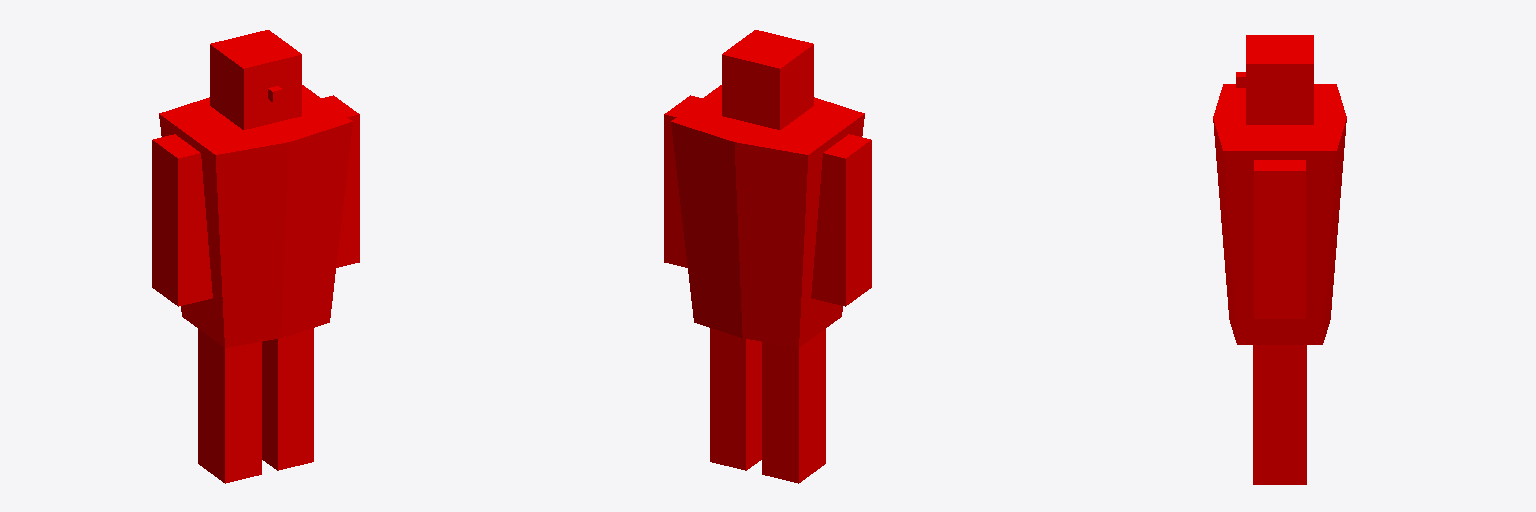
Rendered from rioterMan.obj.
3 renders of one model, left to right at view 1: azimuth 30°, elevation 25°; view 2: azimuth 150°, elevation 25°; view 3: azimuth 270°, elevation 25°, orthographic.
Parts seen in each view (by area): view 1: polySurface3; view 2: polySurface3; view 3: polySurface3.
Boxes of the visible parts, x1=… form: polySurface3: x1=152, y1=30, x2=359, y2=483; polySurface3: x1=664, y1=30, x2=871, y2=483; polySurface3: x1=1213, y1=35, x2=1346, y2=484.
Size of the model in its own units: 0.9903 by 2.16 by 0.633.